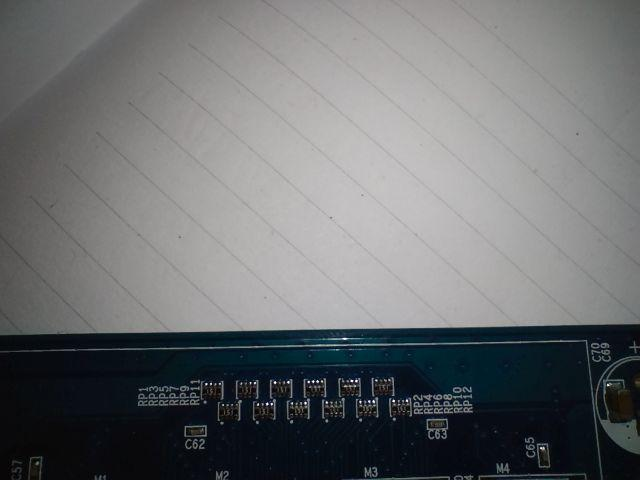capacitor: (180, 417, 216, 443), (534, 434, 555, 474)
